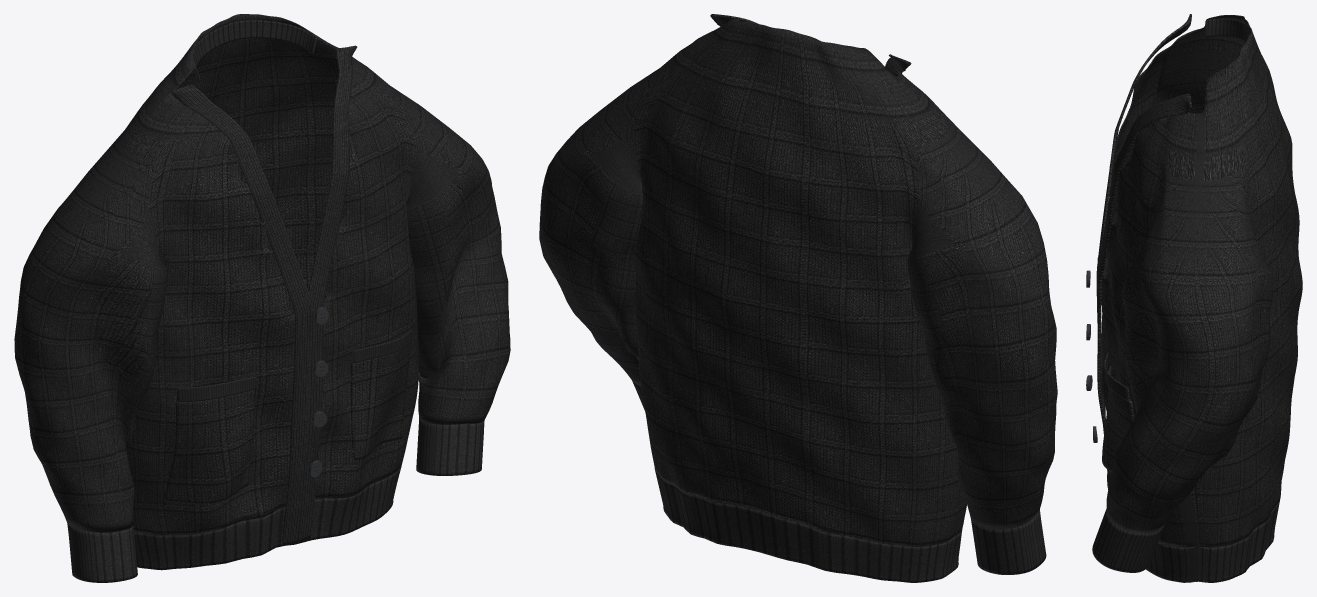
Rendered from NF011-worn-v2.glb.
3 renders of one model, left to right at view 1: azimuth 30°, elevation 25°; view 2: azimuth 150°, elevation 25°; view 3: azimuth 270°, elevation 25°, orthographic. The views are drawn at different scales.
Visible parts, largest first — view 1: Charcoal_windowpane_wool_PBR, Dense_wool_rib_PBR, Matte_charcoal_horn; view 2: Charcoal_windowpane_wool_PBR, Dense_wool_rib_PBR; view 3: Charcoal_windowpane_wool_PBR, Dense_wool_rib_PBR, Matte_charcoal_horn.
Boxes of the visible parts, box(x1,y1,x2,y2) form: Charcoal_windowpane_wool_PBR: box(14, 14, 510, 535); Dense_wool_rib_PBR: box(67, 20, 484, 582); Matte_charcoal_horn: box(309, 307, 328, 477); Charcoal_windowpane_wool_PBR: box(539, 17, 1057, 547); Dense_wool_rib_PBR: box(632, 14, 1046, 582); Charcoal_windowpane_wool_PBR: box(1097, 15, 1302, 547); Dense_wool_rib_PBR: box(1092, 14, 1283, 582); Matte_charcoal_horn: box(1086, 270, 1097, 442).
Size of the model in its own units: 0.7924 by 0.7957 by 0.312.
3 materials, 2 textured.
